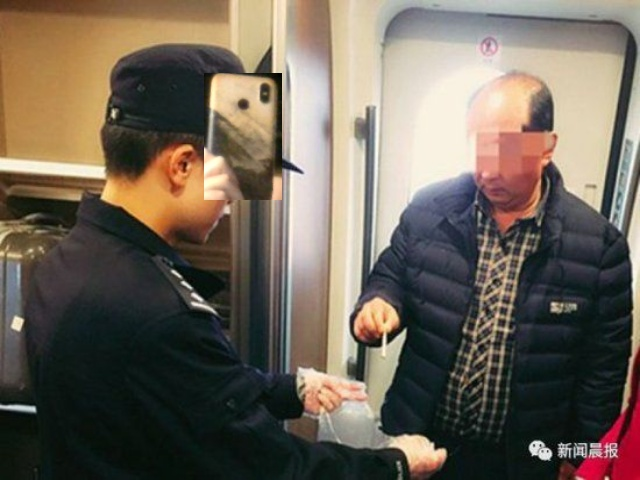UsingPhone: (204, 73, 282, 200)
